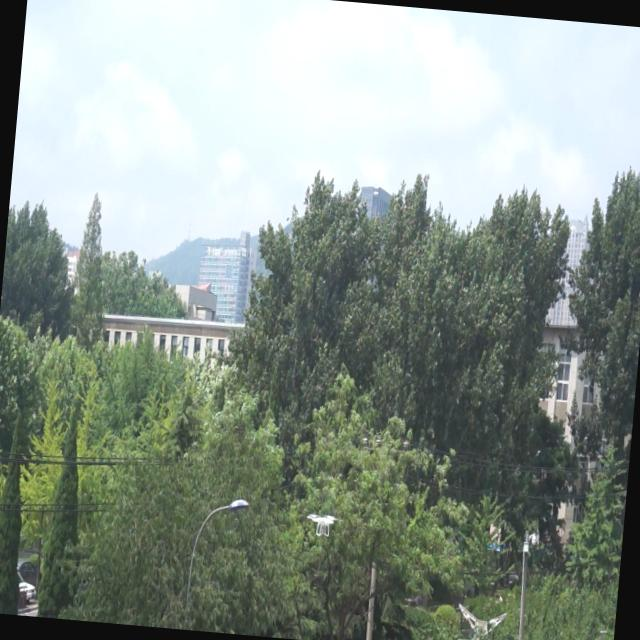drone: (304, 510, 339, 540)
